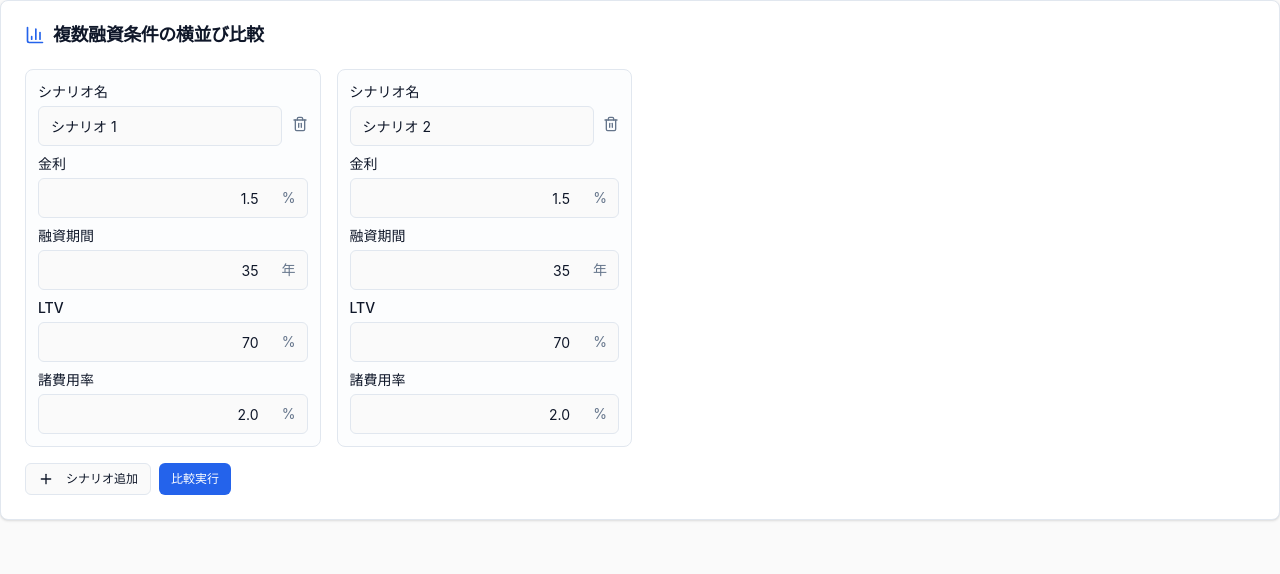
LoanComparePanel › APIがError以外を投げた場合はフォールバックメッセージが表示される
Click the button "比較実行": (195, 479) [159,463,231,495]
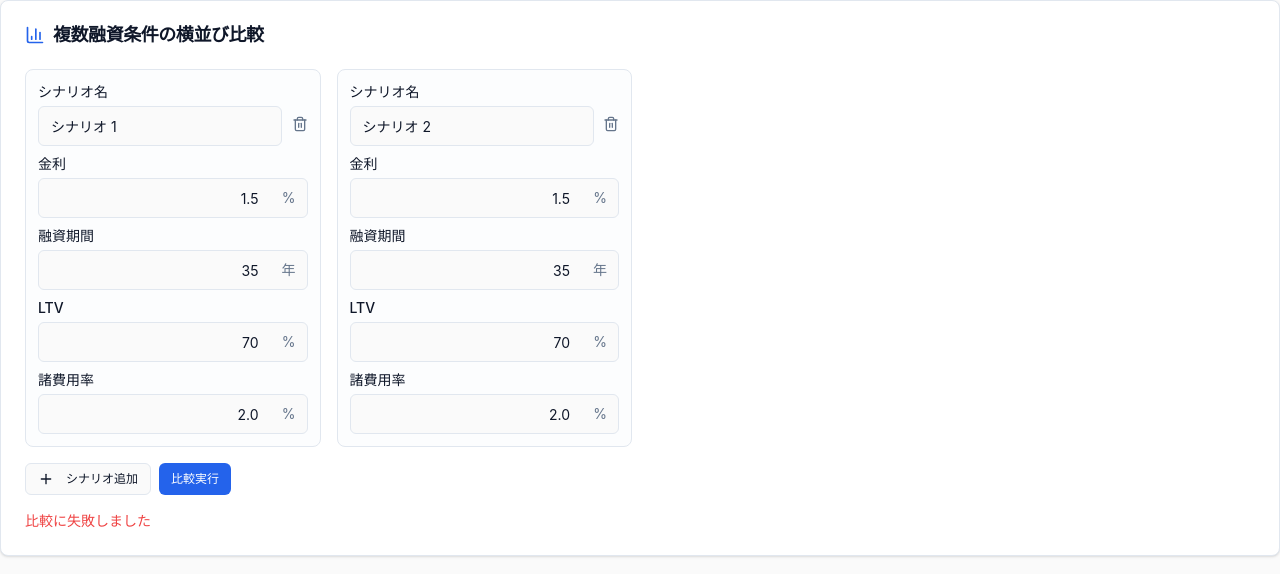
Expected: the text "比較に失敗しました" is shown, [25,512,151,529]
